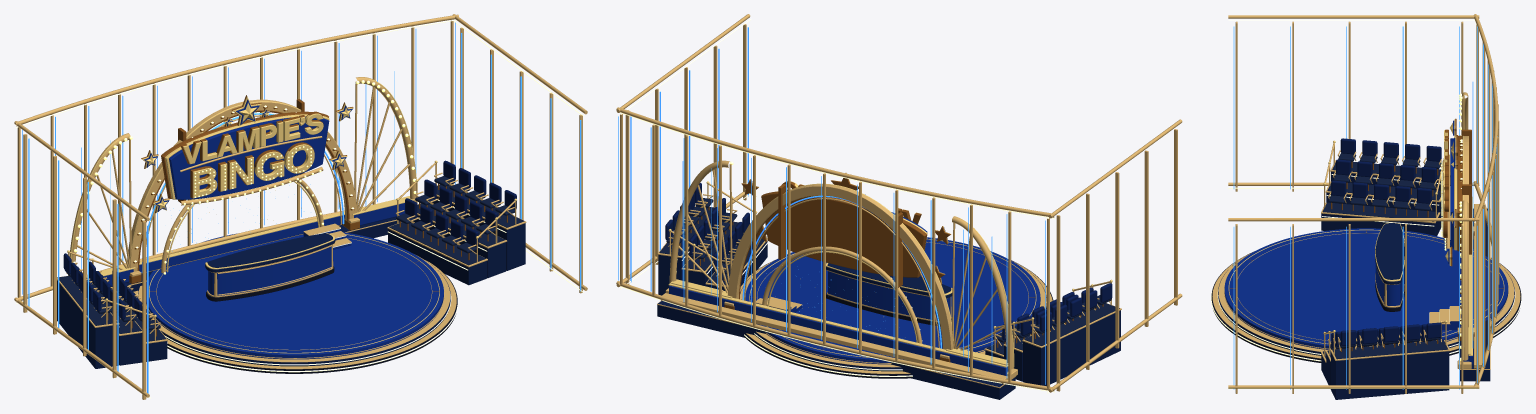
The model's file is showtime-set.glb.
3 renders of one model, left to right at view 1: azimuth 30°, elevation 25°; view 2: azimuth 150°, elevation 25°; view 3: azimuth 270°, elevation 25°, orthographic. The views are drawn at different scales.
Visible parts, largest first — view 1: Champagne gold — satin cast brass, Royal blue — enamel, Midnight blue — painted structure, Pale polished gold — bevel and typography, Electric blue inset light ribbon, Navy audience upholstery, Royal blue velvet, Deep bronze — recessed profiles, Champagne illuminated stage ribbon, Shadow plinth, Warm incandescent marquee bulbs; view 2: Champagne gold — satin cast brass, Royal blue — enamel, Midnight blue — painted structure, Deep bronze — recessed profiles, Electric blue inset light ribbon, Navy audience upholstery, Pale polished gold — bevel and typography, Royal blue velvet, Champagne illuminated stage ribbon, Shadow plinth; view 3: Royal blue — enamel, Champagne gold — satin cast brass, Midnight blue — painted structure, Royal blue velvet, Navy audience upholstery, Electric blue inset light ribbon, Pale polished gold — bevel and typography, Deep bronze — recessed profiles, Champagne illuminated stage ribbon, Shadow plinth, Warm incandescent marquee bulbs.
Part boxes in pixels (box(x1,y1,x2,y2)): Champagne gold — satin cast brass: box(14, 14, 587, 399); Royal blue — enamel: box(89, 99, 443, 359); Midnight blue — painted structure: box(57, 196, 525, 368); Pale polished gold — bevel and typography: box(67, 79, 516, 353); Electric blue inset light ribbon: box(22, 22, 581, 393); Navy audience upholstery: box(57, 176, 524, 341); Royal blue velvet: box(63, 160, 516, 327); Deep bronze — recessed profiles: box(103, 95, 507, 344); Champagne illuminated stage ribbon: box(16, 19, 583, 398); Shadow plinth: box(167, 264, 457, 373); Warm incandescent marquee bulbs: box(73, 80, 416, 274); Champagne gold — satin cast brass: box(616, 14, 1182, 392); Royal blue — enamel: box(669, 181, 1040, 375); Midnight blue — painted structure: box(657, 227, 1120, 399); Deep bronze — recessed profiles: box(679, 173, 1103, 362); Electric blue inset light ribbon: box(618, 27, 1045, 384); Navy audience upholstery: box(659, 198, 1119, 354); Pale polished gold — bevel and typography: box(668, 165, 1112, 367); Royal blue velvet: box(665, 183, 1112, 340); Champagne illuminated stage ribbon: box(620, 18, 1054, 393); Shadow plinth: box(744, 260, 1053, 378); Royal blue — enamel: box(1224, 120, 1508, 364); Champagne gold — satin cast brass: box(1212, 14, 1520, 393); Midnight blue — painted structure: box(1218, 171, 1514, 399); Royal blue velvet: box(1331, 138, 1441, 347); Navy audience upholstery: box(1322, 153, 1448, 359); Electric blue inset light ribbon: box(1233, 26, 1497, 389); Pale polished gold — bevel and typography: box(1228, 95, 1504, 359); Deep bronze — recessed profiles: box(1229, 118, 1503, 351); Champagne illuminated stage ribbon: box(1211, 19, 1521, 389); Shadow plinth: box(1211, 252, 1521, 362); Warm incandescent marquee bulbs: box(1441, 93, 1462, 360).
Bounding box in the file's own units: 17.22 × 7.22 × 11.02.
